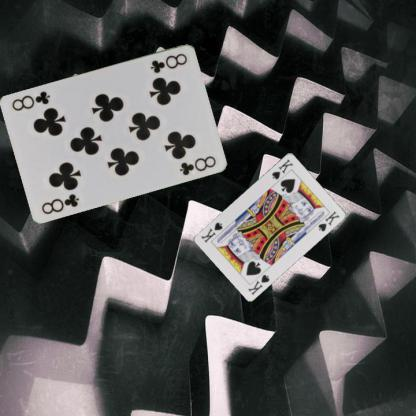8c: (39, 190, 81, 216), (148, 50, 189, 74)
Ks: (246, 271, 271, 296), (269, 156, 295, 180)
